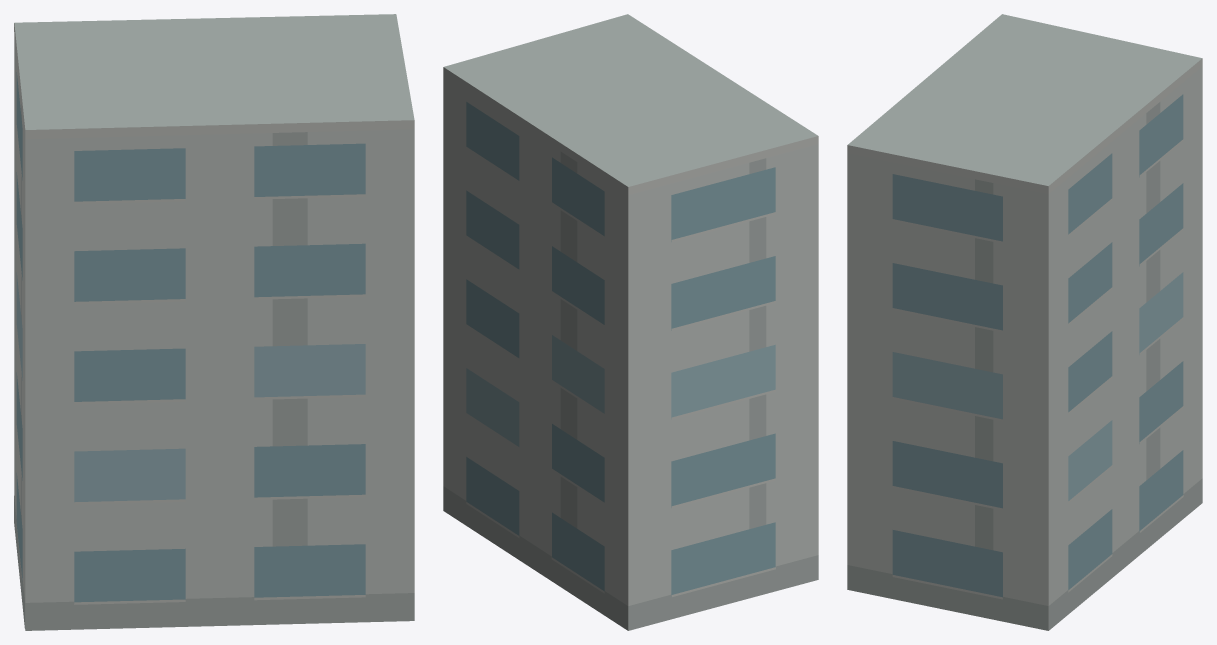
File: survey-upis-32725445.glb
3 renders of one model, left to right at view 1: azimuth 30°, elevation 25°; view 2: azimuth 150°, elevation 25°; view 3: azimuth 270°, elevation 25°, orthographic. The views are drawn at different scales.
Visible parts, largest first — view 1: survey-upis-32725445.tmp; view 2: survey-upis-32725445.tmp; view 3: survey-upis-32725445.tmp.
Boxes of the visible parts, x1,y1,x2,y2 form: survey-upis-32725445.tmp: (14,14,414,630); survey-upis-32725445.tmp: (443,14,818,630); survey-upis-32725445.tmp: (847,14,1202,630).
Size of the model in its own units: 10.97 by 13.2 by 9.56.
